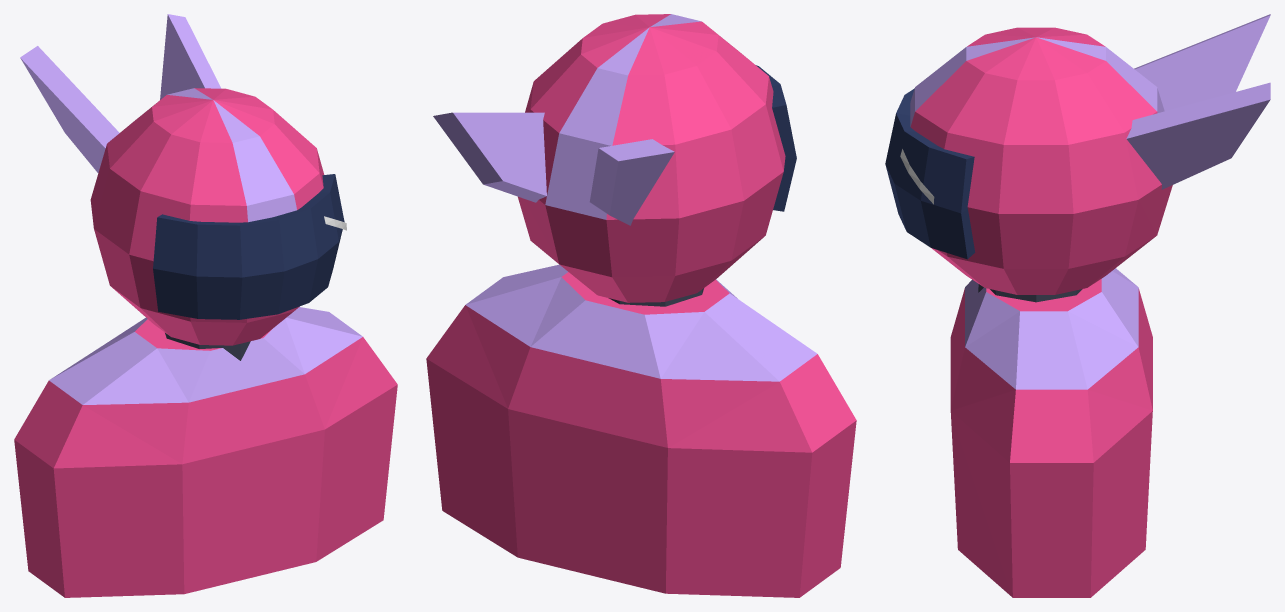
Rendered from pilot_kiki.obj.
3 views of the same model, side by side, from view 1: azimuth 30°, elevation 25°; view 2: azimuth 150°, elevation 25°; view 3: azimuth 270°, elevation 25° (orthographic). The views are drawn at different scales.
Parts seen in each view (by area): view 1: body, head; view 2: body, head; view 3: head, body.
Boxes of the visible parts, <box> form: body: <box>14,307,397,597</box>; head: <box>20,14,346,345</box>; body: <box>426,264,856,597</box>; head: <box>433,14,796,302</box>; head: <box>885,14,1270,294</box>; body: <box>950,268,1152,597</box>.
Size of the model in its own units: 0.5388 by 0.675 by 0.493.
